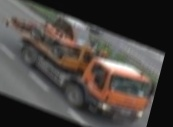truck: (0, 0, 170, 127)
